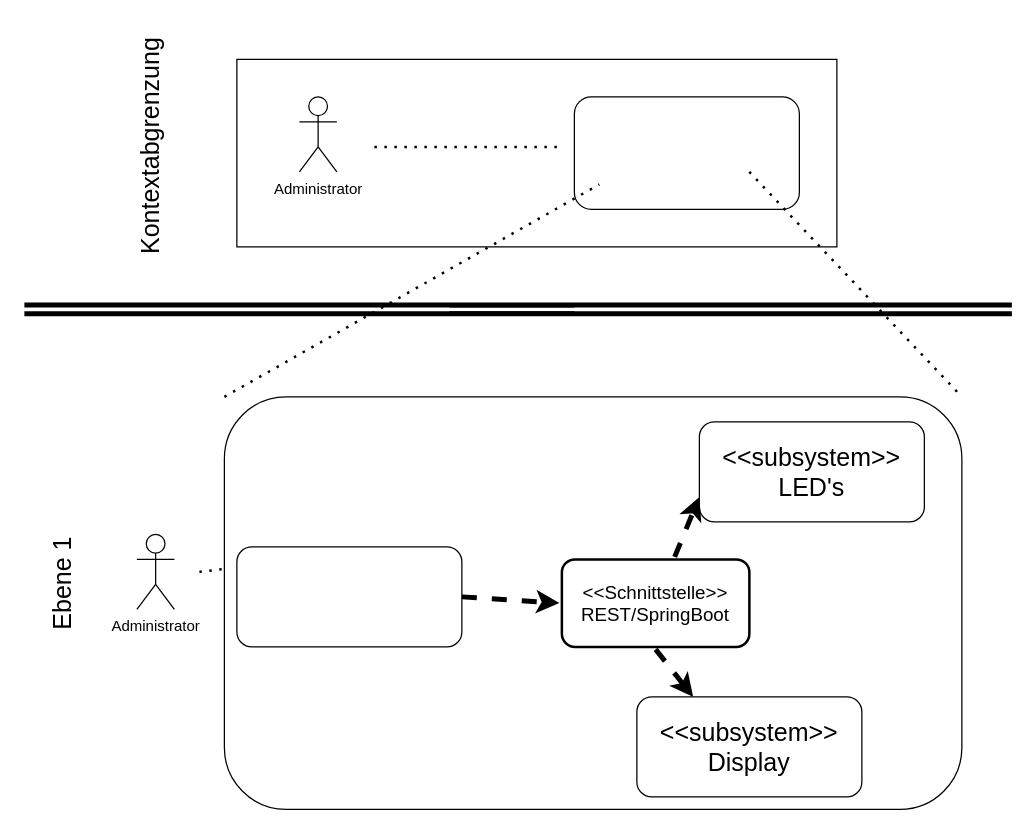
The diagram is 1035 pixels wide and 831 high, and some of its shapes have lost their labels. The shapes that lost their labels are listed below. From the top down, each one's centre as x and y in pixels, then its label:
the point at 686,152: System
the point at 349,596: <<subsystem>> Scanner
